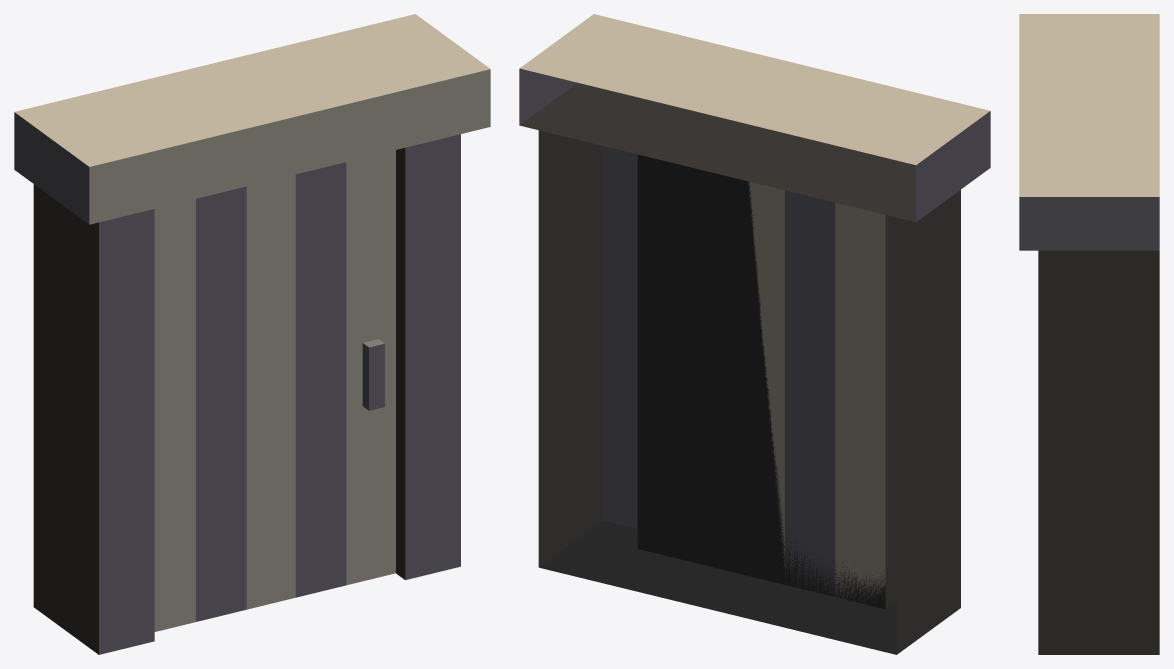
File: TB_D_Bd_SRoof_DoorSet_C.FBX
3 renders of one model, left to right at view 1: azimuth 30°, elevation 25°; view 2: azimuth 150°, elevation 25°; view 3: azimuth 270°, elevation 25°, orthographic. The views are drawn at different scales.
Visible parts, largest first — view 1: TB_D_Bd_SRoof_DoorSet_C, TB_D_Bd_SRoof_Door_C; view 2: TB_D_Bd_SRoof_DoorSet_C, TB_D_Bd_SRoof_Door_C; view 3: TB_D_Bd_SRoof_DoorSet_C.
Part boxes in pixels (x1,y1,x2,y2): TB_D_Bd_SRoof_DoorSet_C: [14, 14, 490, 654]; TB_D_Bd_SRoof_Door_C: [154, 150, 395, 631]; TB_D_Bd_SRoof_DoorSet_C: [519, 14, 990, 654]; TB_D_Bd_SRoof_Door_C: [748, 181, 885, 603]; TB_D_Bd_SRoof_DoorSet_C: [1019, 14, 1159, 654].
Bounding box in the file's own units: 1.44 × 1.71 × 0.4679.
